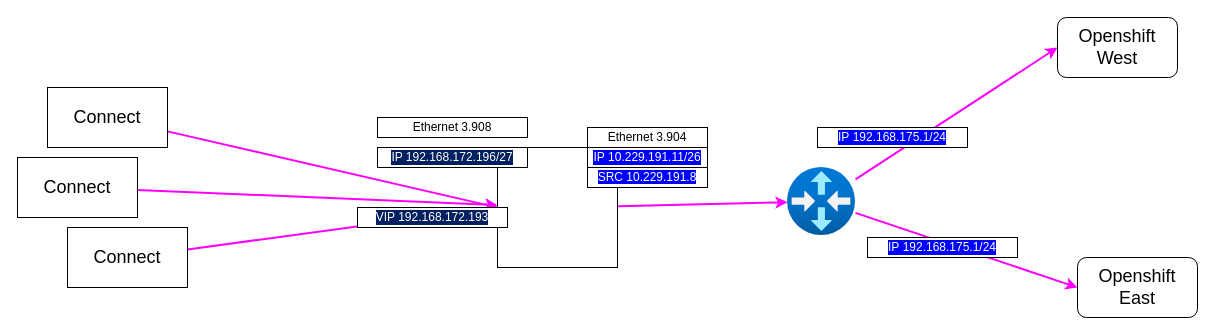
Some shapes in this 1215 by 335 pixel diagram are drawn without their labels. The centre of each missing label's shape, as x and y in pixels:
"PBN" belongs at point (821, 201).
"vDistribution" belongs at point (557, 207).
